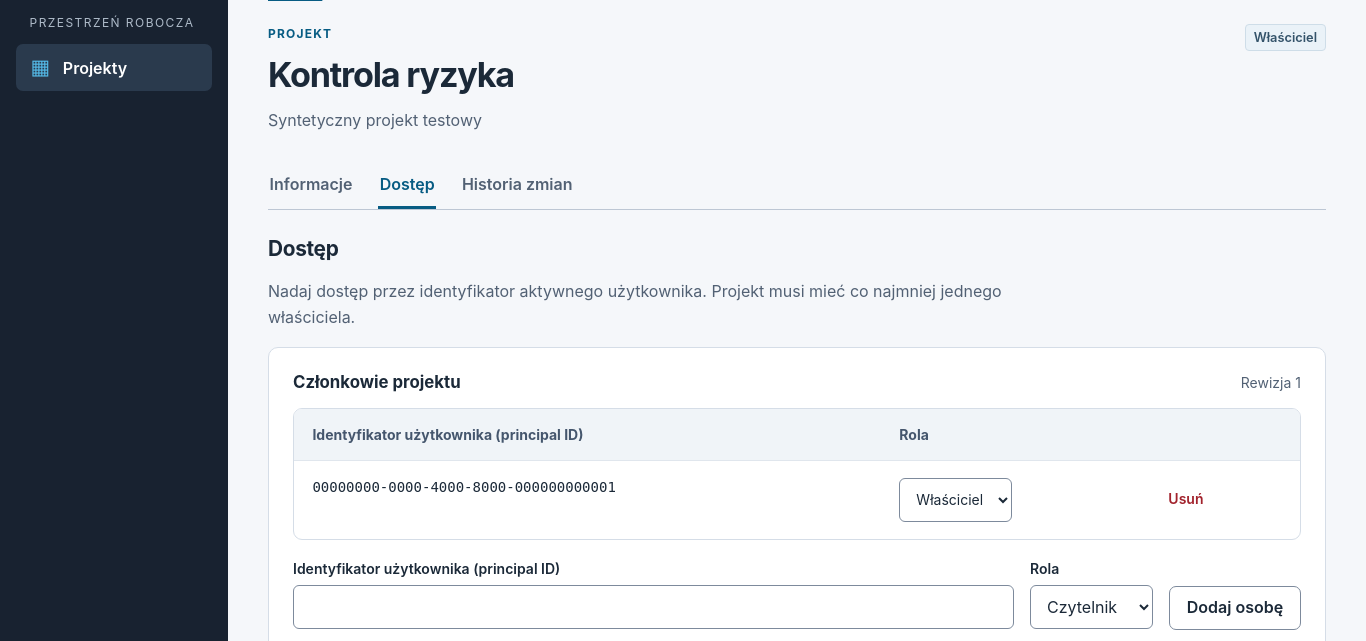
Scenario: SPEC-0001 access policy and SPEC-0017 conflict/revocation UI › preserves edits on 412, reauthorizes before comparison, and never automatically force-saves
The width and height of the screenshot is (1366, 641).
Type "00000000-0000-4000-8000-000000000002" into the field labelled "Identyfikator użytkownika (principal ID)". click: [654, 607]
box: [293,585,1014,629]
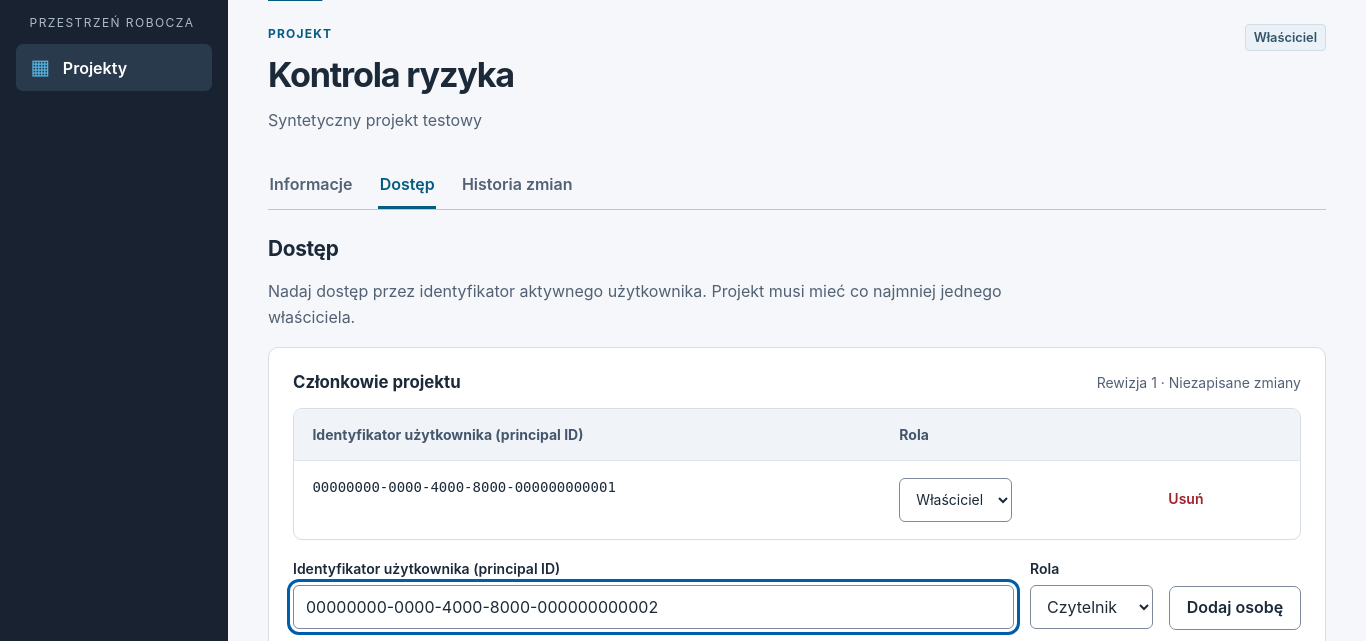
Click the button "Dodaj osobę". click: [1235, 608]
box: [1169,586,1301,630]
(page scrolled)
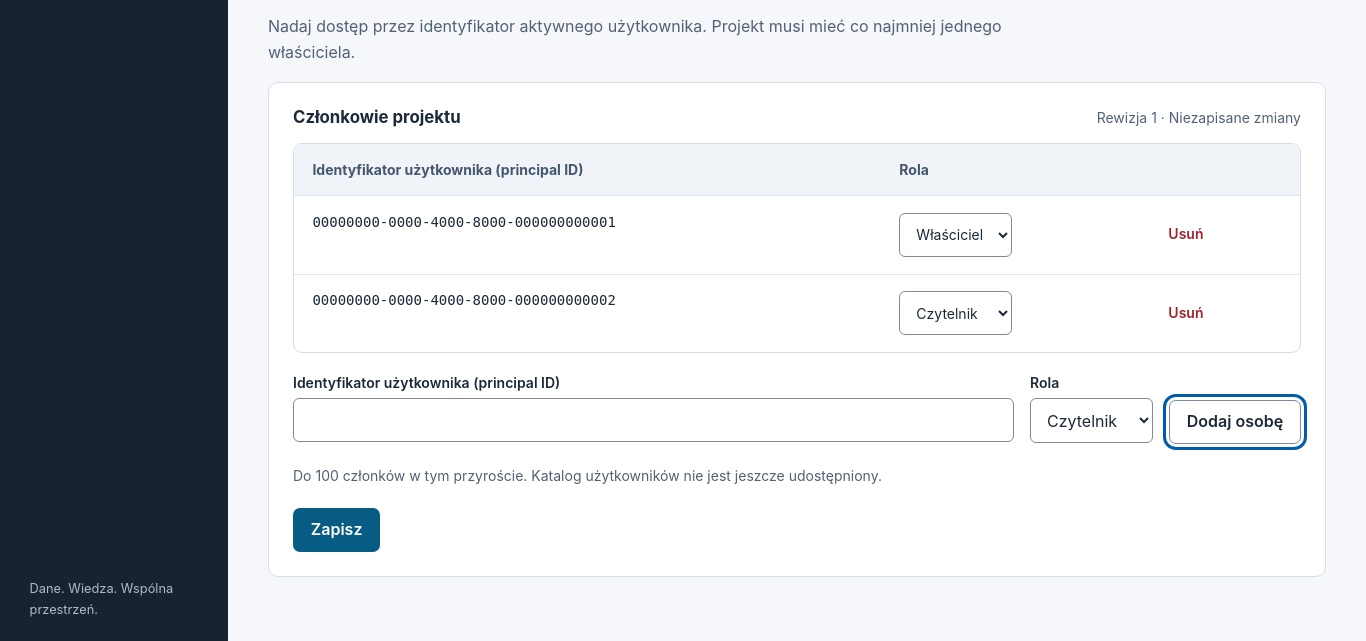
Click the button "Zapisz". click: [337, 530]
box: [293,508,380,552]
(page scrolled)
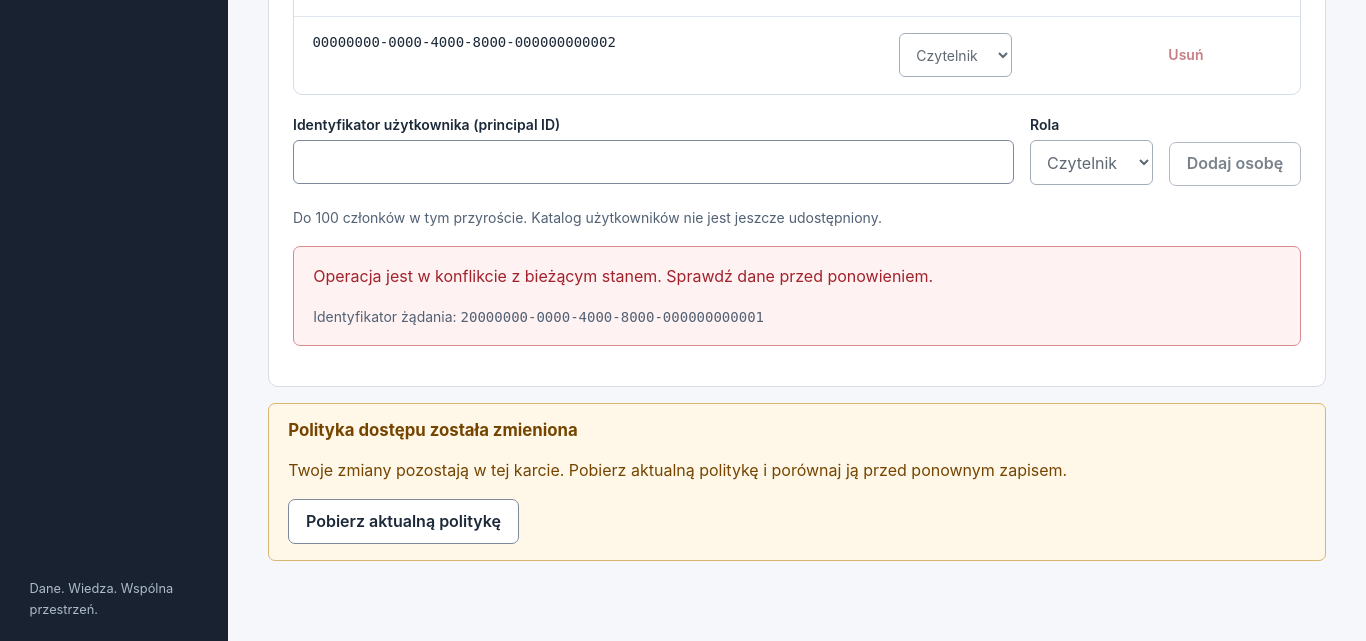
Expected: the table named "Członkowie projektu" shows "00000000-0000-4000-8000-000000000002", [312,34,616,50]
Expected: the heading "Polityka dostępu została zmieniona" is shown, [288,420,578,440]
Click the button "Pobierz aktualną politykę". click: [403, 522]
box: [288,500,519,544]
(page scrolled)
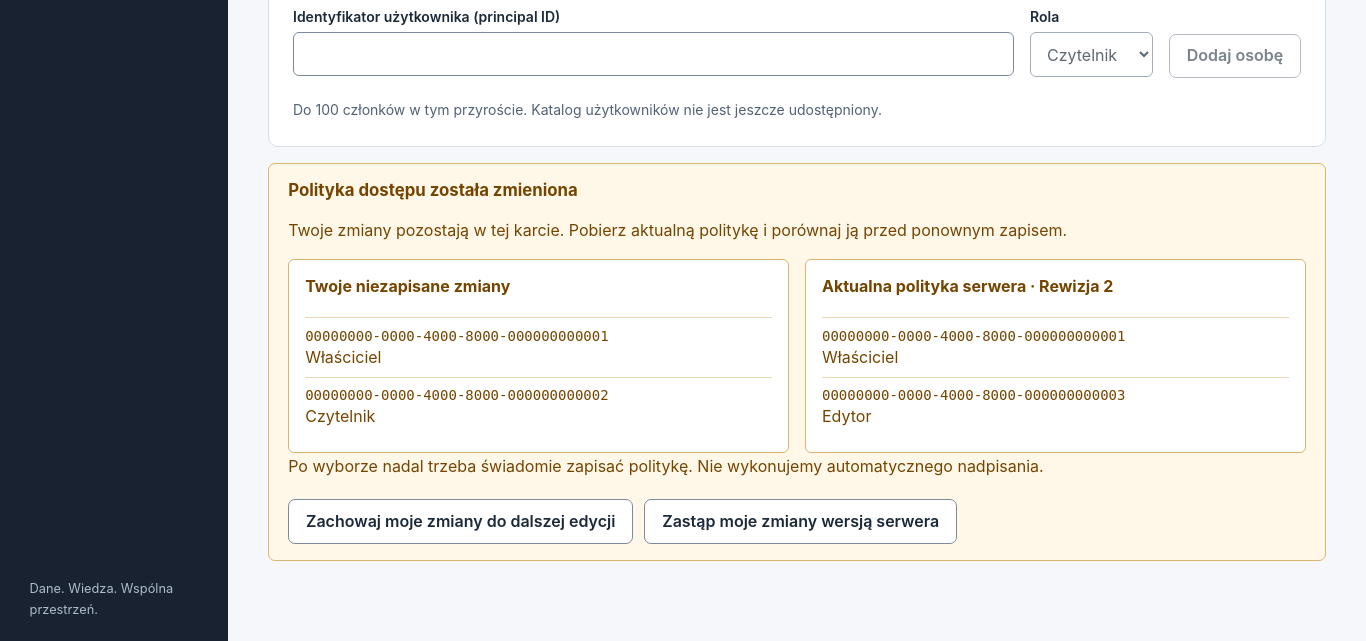
Expected: the text "00000000-0000-4000-8000-000000000003" is shown, [822,387,1125,403]
Click the button "Zachowaj moje zmiany do dalszej edycji". click: [461, 522]
box: [288,499,633,544]
(page scrolled)
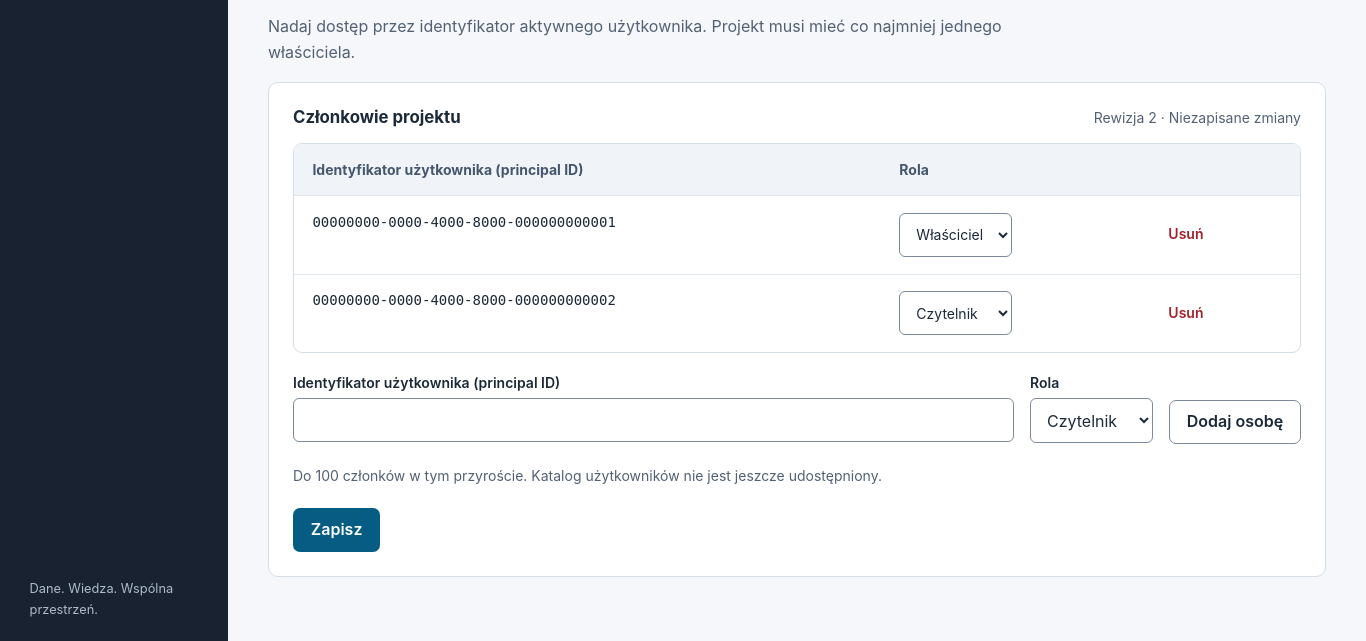
Expected: the button "Zapisz" is enabled, [293,508,380,552]
